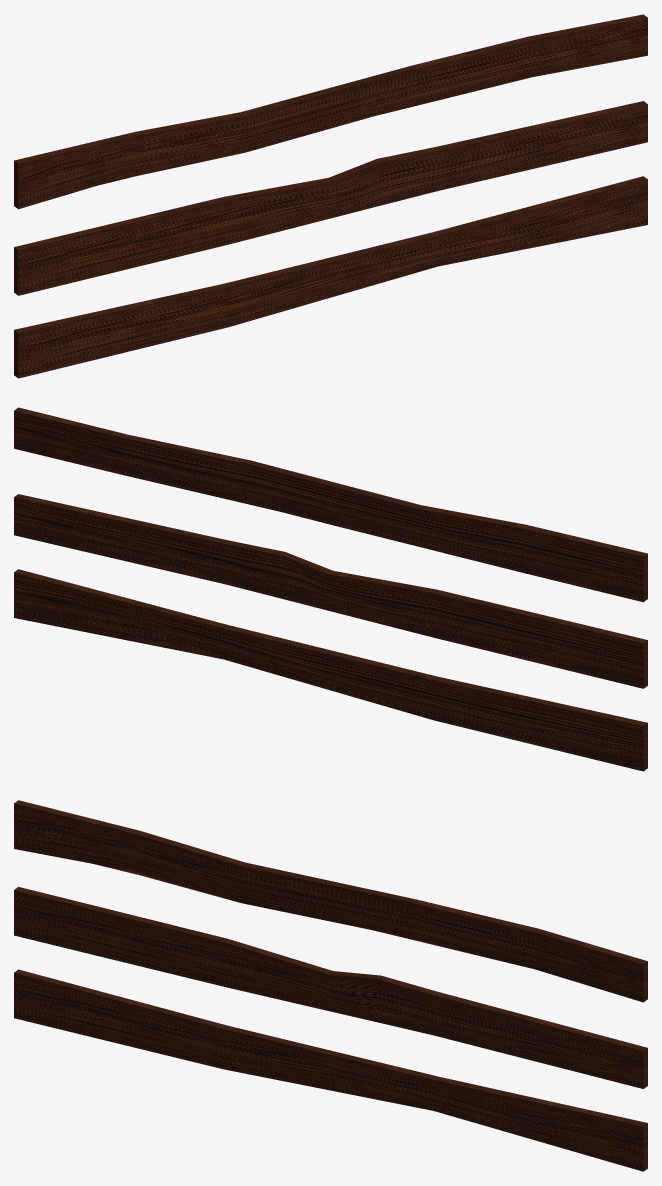
Rendered from SM_Prop_Fence_Painted_01.fbx.
3 renders of one model, top to bottom at view 1: azimuth 30°, elevation 25°; view 2: azimuth 150°, elevation 25°; view 3: azimuth 330°, elevation 25°, orthographic.
Parts seen in each view (by area): view 1: Cube.001, Cube, Cube.002; view 2: Cube.001, Cube.002, Cube; view 3: Cube.001, Cube, Cube.002.
Part boxes in pixels (x1=…): Cube.001: x1=14, y1=101, x2=647, y2=295; Cube: x1=14, y1=176, x2=647, y2=378; Cube.002: x1=14, y1=14, x2=647, y2=209; Cube.001: x1=14, y1=494, x2=647, y2=688; Cube.002: x1=14, y1=407, x2=647, y2=602; Cube: x1=14, y1=569, x2=647, y2=771; Cube.001: x1=14, y1=887, x2=647, y2=1088; Cube: x1=14, y1=969, x2=647, y2=1171; Cube.002: x1=14, y1=800, x2=647, y2=1002.
Bounding box in the file's own units: 271 × 88.47 × 5.8.
